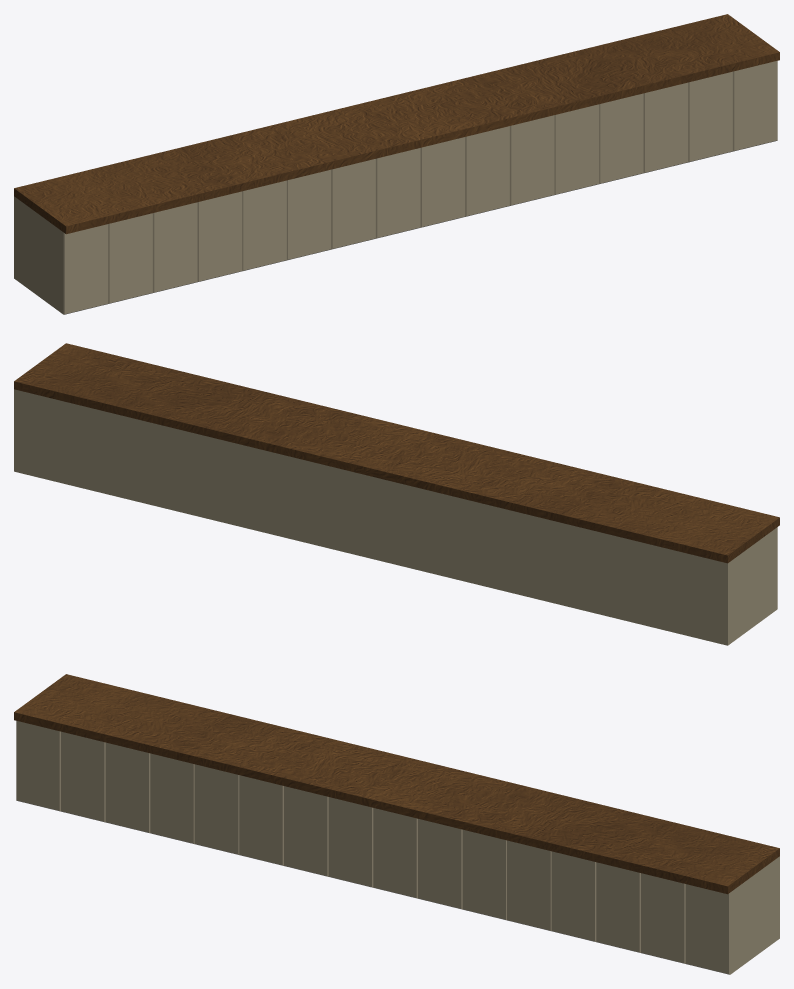
The model's file is HeistConsoleDesk.fbx.
3 views of the same model, one above another, from view 1: azimuth 30°, elevation 25°; view 2: azimuth 150°, elevation 25°; view 3: azimuth 330°, elevation 25° (orthographic).
Parts seen in each view (by area): view 1: HeistConsoleDesk; view 2: HeistConsoleDesk; view 3: HeistConsoleDesk.
Part boxes in pixels (bbox=[...]): HeistConsoleDesk: bbox=[14, 14, 779, 314]; HeistConsoleDesk: bbox=[14, 343, 779, 645]; HeistConsoleDesk: bbox=[14, 674, 779, 974].
Bounding box in the file's own units: 90.72 × 10.96 × 11.48.
